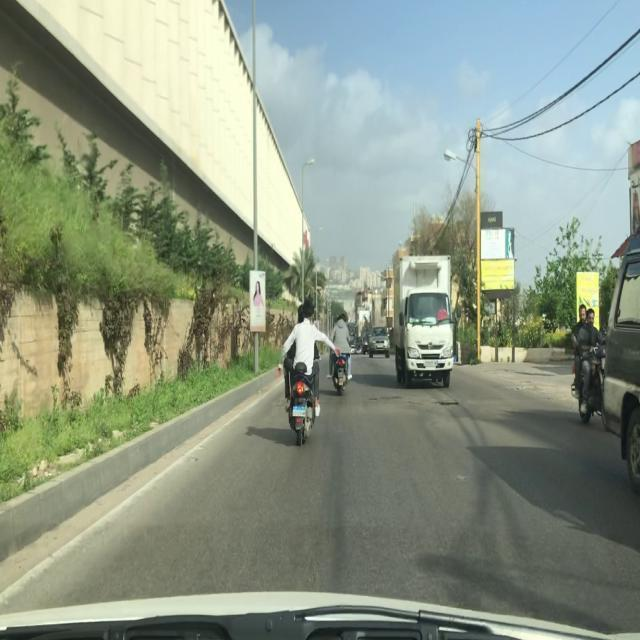pothole: (436, 400, 460, 408)
